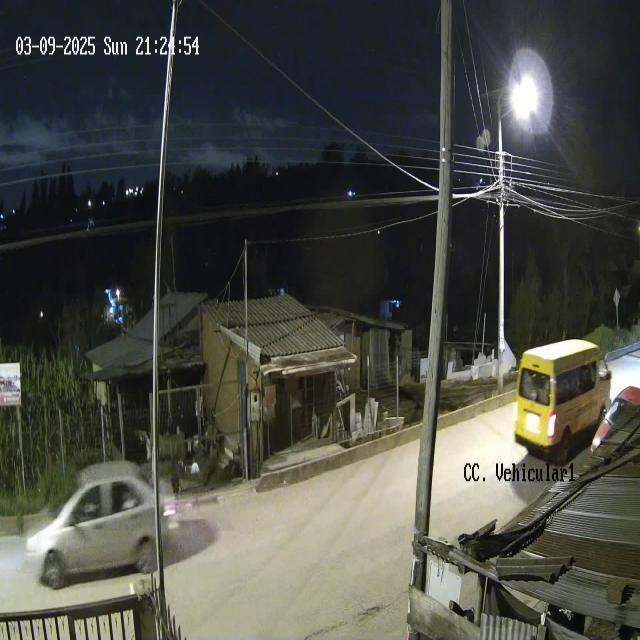BUS: (513, 341, 612, 464)
SED: (24, 461, 158, 582)
